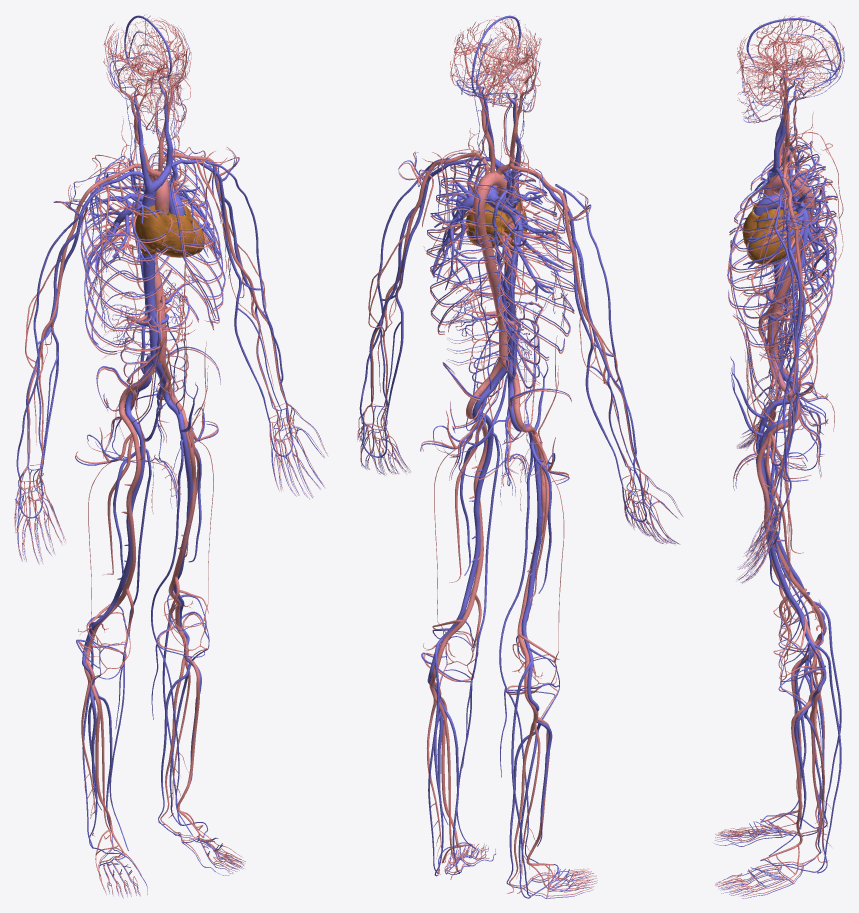
File: angiology.glb
The picture shows the model from 3 angles, left to right: view 1: azimuth 30°, elevation 25°; view 2: azimuth 150°, elevation 25°; view 3: azimuth 270°, elevation 25°; orthographic projection. The views are drawn at different scales.
Visible parts, largest first — view 1: Object_153, Object_4, Object_151; view 2: Object_153, Object_4, Object_151; view 3: Object_4, Object_153, Object_151.
Part boxes in pixels (left/top/right/bottom): Object_153: left=15, top=15, right=326, bottom=898; Object_4: left=14, top=14, right=328, bottom=894; Object_151: left=133, top=203, right=204, bottom=257; Object_153: left=358, top=15, right=682, bottom=898; Object_4: left=357, top=15, right=682, bottom=896; Object_151: left=465, top=202, right=526, bottom=252; Object_4: left=715, top=16, right=844, bottom=896; Object_153: left=714, top=17, right=844, bottom=898; Object_151: left=742, top=194, right=801, bottom=264.
Size of the model in its own units: 0.6639 by 1.7 by 0.2396.
